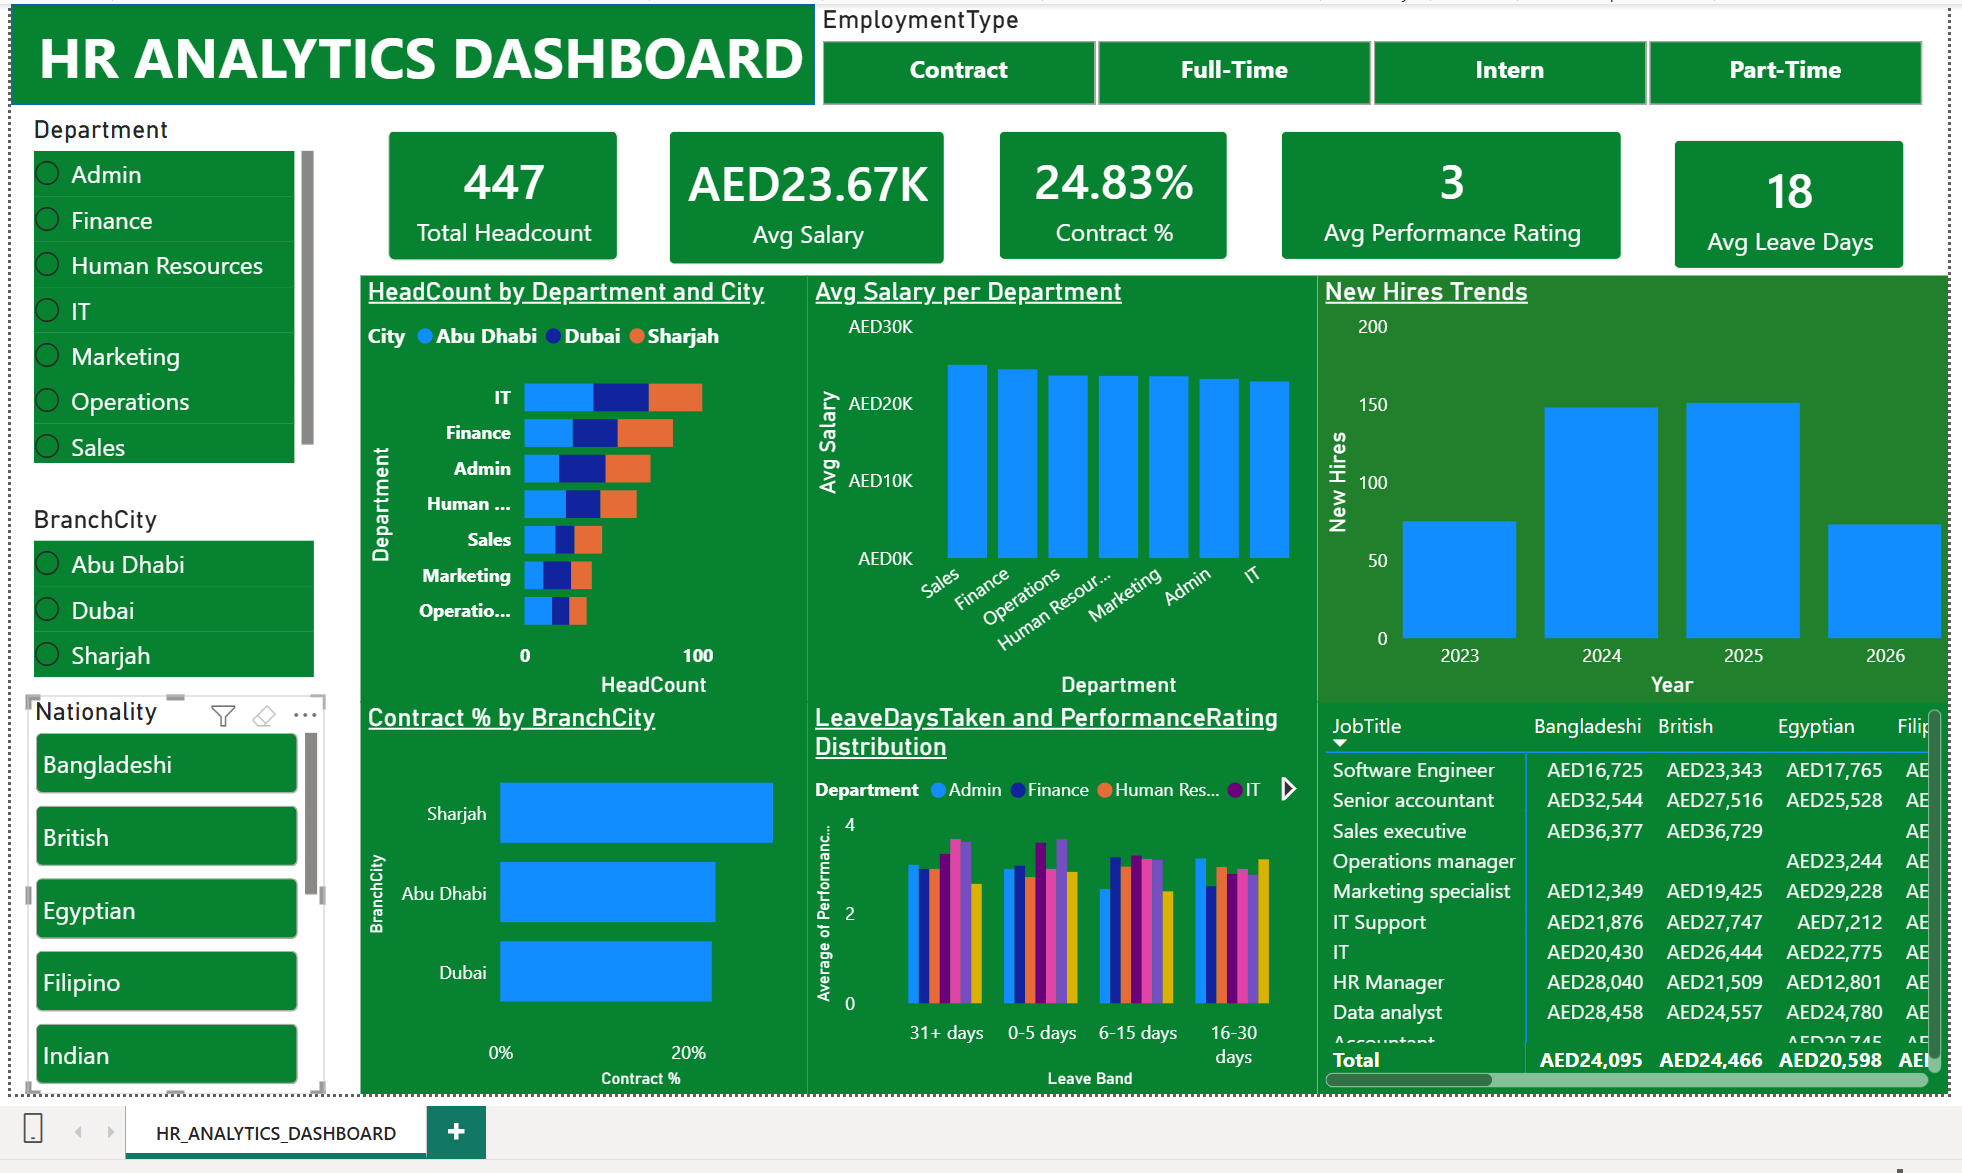

The page's visual inventory and layout, read from the dashboard file:
{"tool":"powerbi","page":{"name":"HR_ANALYTICS_DASHBOARD","canvas":[1280,720],"ordinal":0},"visuals":[{"type":"cardVisual","fields":{"Data":["HR_dataset_Cleaned.Avg Salary"]},"box":[417.5,66.7,217.3,123.6],"z":0},{"type":"cardVisual","fields":{"Data":["HR_dataset_Cleaned.Total Headcount"]},"box":[231.5,66.7,186,120.7],"z":1000},{"type":"cardVisual","fields":{"Data":["HR_dataset_Cleaned.Contract %"]},"box":[634.8,66.7,186,120.7],"z":2000},{"type":"cardVisual","fields":{"Data":["HR_dataset_Cleaned.Avg Leave Days","HR_dataset_Cleaned.Avg Leave Days"]},"box":[1081.4,72,187,120.8],"z":3000},{"type":"cardVisual","fields":{"Data":["HR_dataset_Cleaned.Avg Performance Rating"]},"box":[821.2,66.2,260.2,120.8],"z":4000},{"type":"shape","box":[0,0,531.1,66.7],"z":5000},{"type":"listSlicer","fields":{"Values":["HR_dataset_Cleaned.Department"]},"box":[9.9,72.4,196,235.7],"z":6000},{"type":"listSlicer","fields":{"Values":["HR_dataset_Cleaned.BranchCity"]},"box":[9.9,329.5,196,126.4],"z":7000},{"type":"advancedSlicerVisual","fields":{"Values":["HR_dataset_Cleaned.EmploymentType"]},"box":[530.8,0,737.6,72],"z":8000},{"type":"advancedSlicerVisual","fields":{"Values":["HR_dataset_Cleaned.Nationality"]},"box":[10.5,456.5,196.3,263.7],"z":9000},{"type":"barChart","fields":{"Category":["HR_dataset_Cleaned.Department"],"Series":["HR_dataset_Cleaned.BranchCity"],"Y":["CountNonNull(HR_dataset_Cleaned.EmployeeID)"]},"box":[231.1,178.9,295,282.3],"z":10000},{"type":"clusteredColumnChart","title":"Avg Salary per Department","fields":{"Category":["HR_dataset_Cleaned.Department"],"Y":["HR_dataset_Cleaned.Avg Salary"]},"box":[526.2,178.9,336.8,282.3],"z":11000},{"type":"clusteredColumnChart","title":"LeaveDaysTaken and PerformanceRating Distribution","fields":{"Category":["HR_dataset_Cleaned.Leave Band"],"Y":["Avg(HR_dataset_Cleaned.PerformanceRating)"],"Series":["HR_dataset_Cleaned.Department"]},"box":[526.2,461.1,336.8,259],"z":12000},{"type":"clusteredBarChart","fields":{"Category":["HR_dataset_Cleaned.BranchCity"],"Y":["HR_dataset_Cleaned.Contract %"]},"box":[231.1,461.1,295,259],"z":13000},{"type":"pivotTable","fields":{"Values":["Avg(HR_dataset_Cleaned.SalaryAED)"],"Columns":["HR_dataset_Cleaned.Nationality"],"Rows":["HR_dataset_Cleaned.JobTitle"]},"box":[863,460.7,417.1,259.6],"z":14000},{"type":"columnChart","title":"New Hires Trends","fields":{"Category":["Date.Year"],"Y":["HR_dataset_Cleaned.New Hires"]},"box":[863,178.9,417,282.3],"z":14001}]}

Visuals, with their boxes on the page's 1280x720 design canvas (x1, y1, x2, y2). These are canvas units, not pixel positions in the 1962x1173 screenshot, which may show the page scaled, cropped or inside an application window:
cardVisual - HR_dataset_Cleaned.Avg Salary: bbox=(418, 67, 635, 190)
cardVisual - HR_dataset_Cleaned.Total Headcount: bbox=(232, 67, 418, 187)
cardVisual - HR_dataset_Cleaned.Contract %: bbox=(635, 67, 821, 187)
cardVisual - HR_dataset_Cleaned.Avg Leave Days x HR_dataset_Cleaned.Avg Leave Days: bbox=(1081, 72, 1268, 193)
cardVisual - HR_dataset_Cleaned.Avg Performance Rating: bbox=(821, 66, 1081, 187)
shape: bbox=(0, 0, 531, 67)
listSlicer - HR_dataset_Cleaned.Department: bbox=(10, 72, 206, 308)
listSlicer - HR_dataset_Cleaned.BranchCity: bbox=(10, 330, 206, 456)
advancedSlicerVisual - HR_dataset_Cleaned.EmploymentType: bbox=(531, 0, 1268, 72)
advancedSlicerVisual - HR_dataset_Cleaned.Nationality: bbox=(10, 456, 207, 720)
barChart - HR_dataset_Cleaned.Department x HR_dataset_Cleaned.BranchCity: bbox=(231, 179, 526, 461)
"Avg Salary per Department" clusteredColumnChart: bbox=(526, 179, 863, 461)
"LeaveDaysTaken and PerformanceRating Distribution" clusteredColumnChart: bbox=(526, 461, 863, 720)
clusteredBarChart - HR_dataset_Cleaned.BranchCity x HR_dataset_Cleaned.Contract %: bbox=(231, 461, 526, 720)
pivotTable - Avg(HR_dataset_Cleaned.SalaryAED) x HR_dataset_Cleaned.Nationality: bbox=(863, 461, 1280, 720)
"New Hires Trends" columnChart: bbox=(863, 179, 1280, 461)
